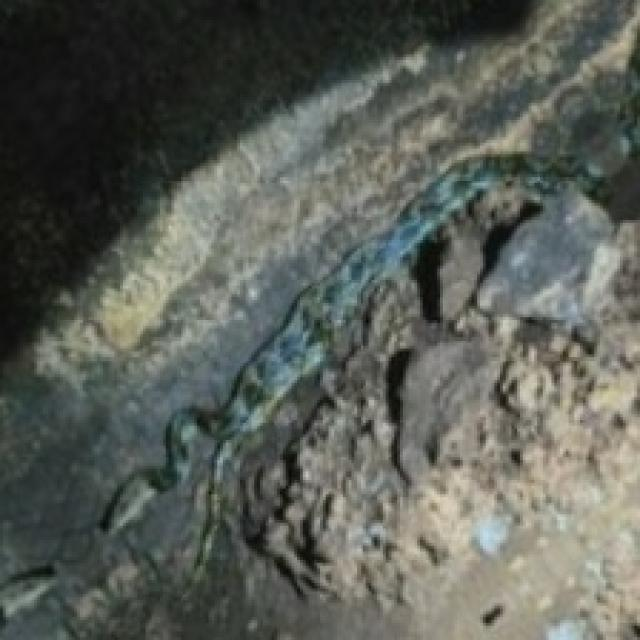reticulated python: (101, 148, 609, 558)
